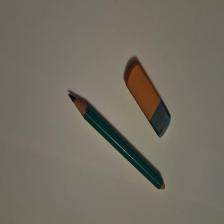eraser: (126, 62, 172, 140)
pencil: (69, 95, 166, 191)
